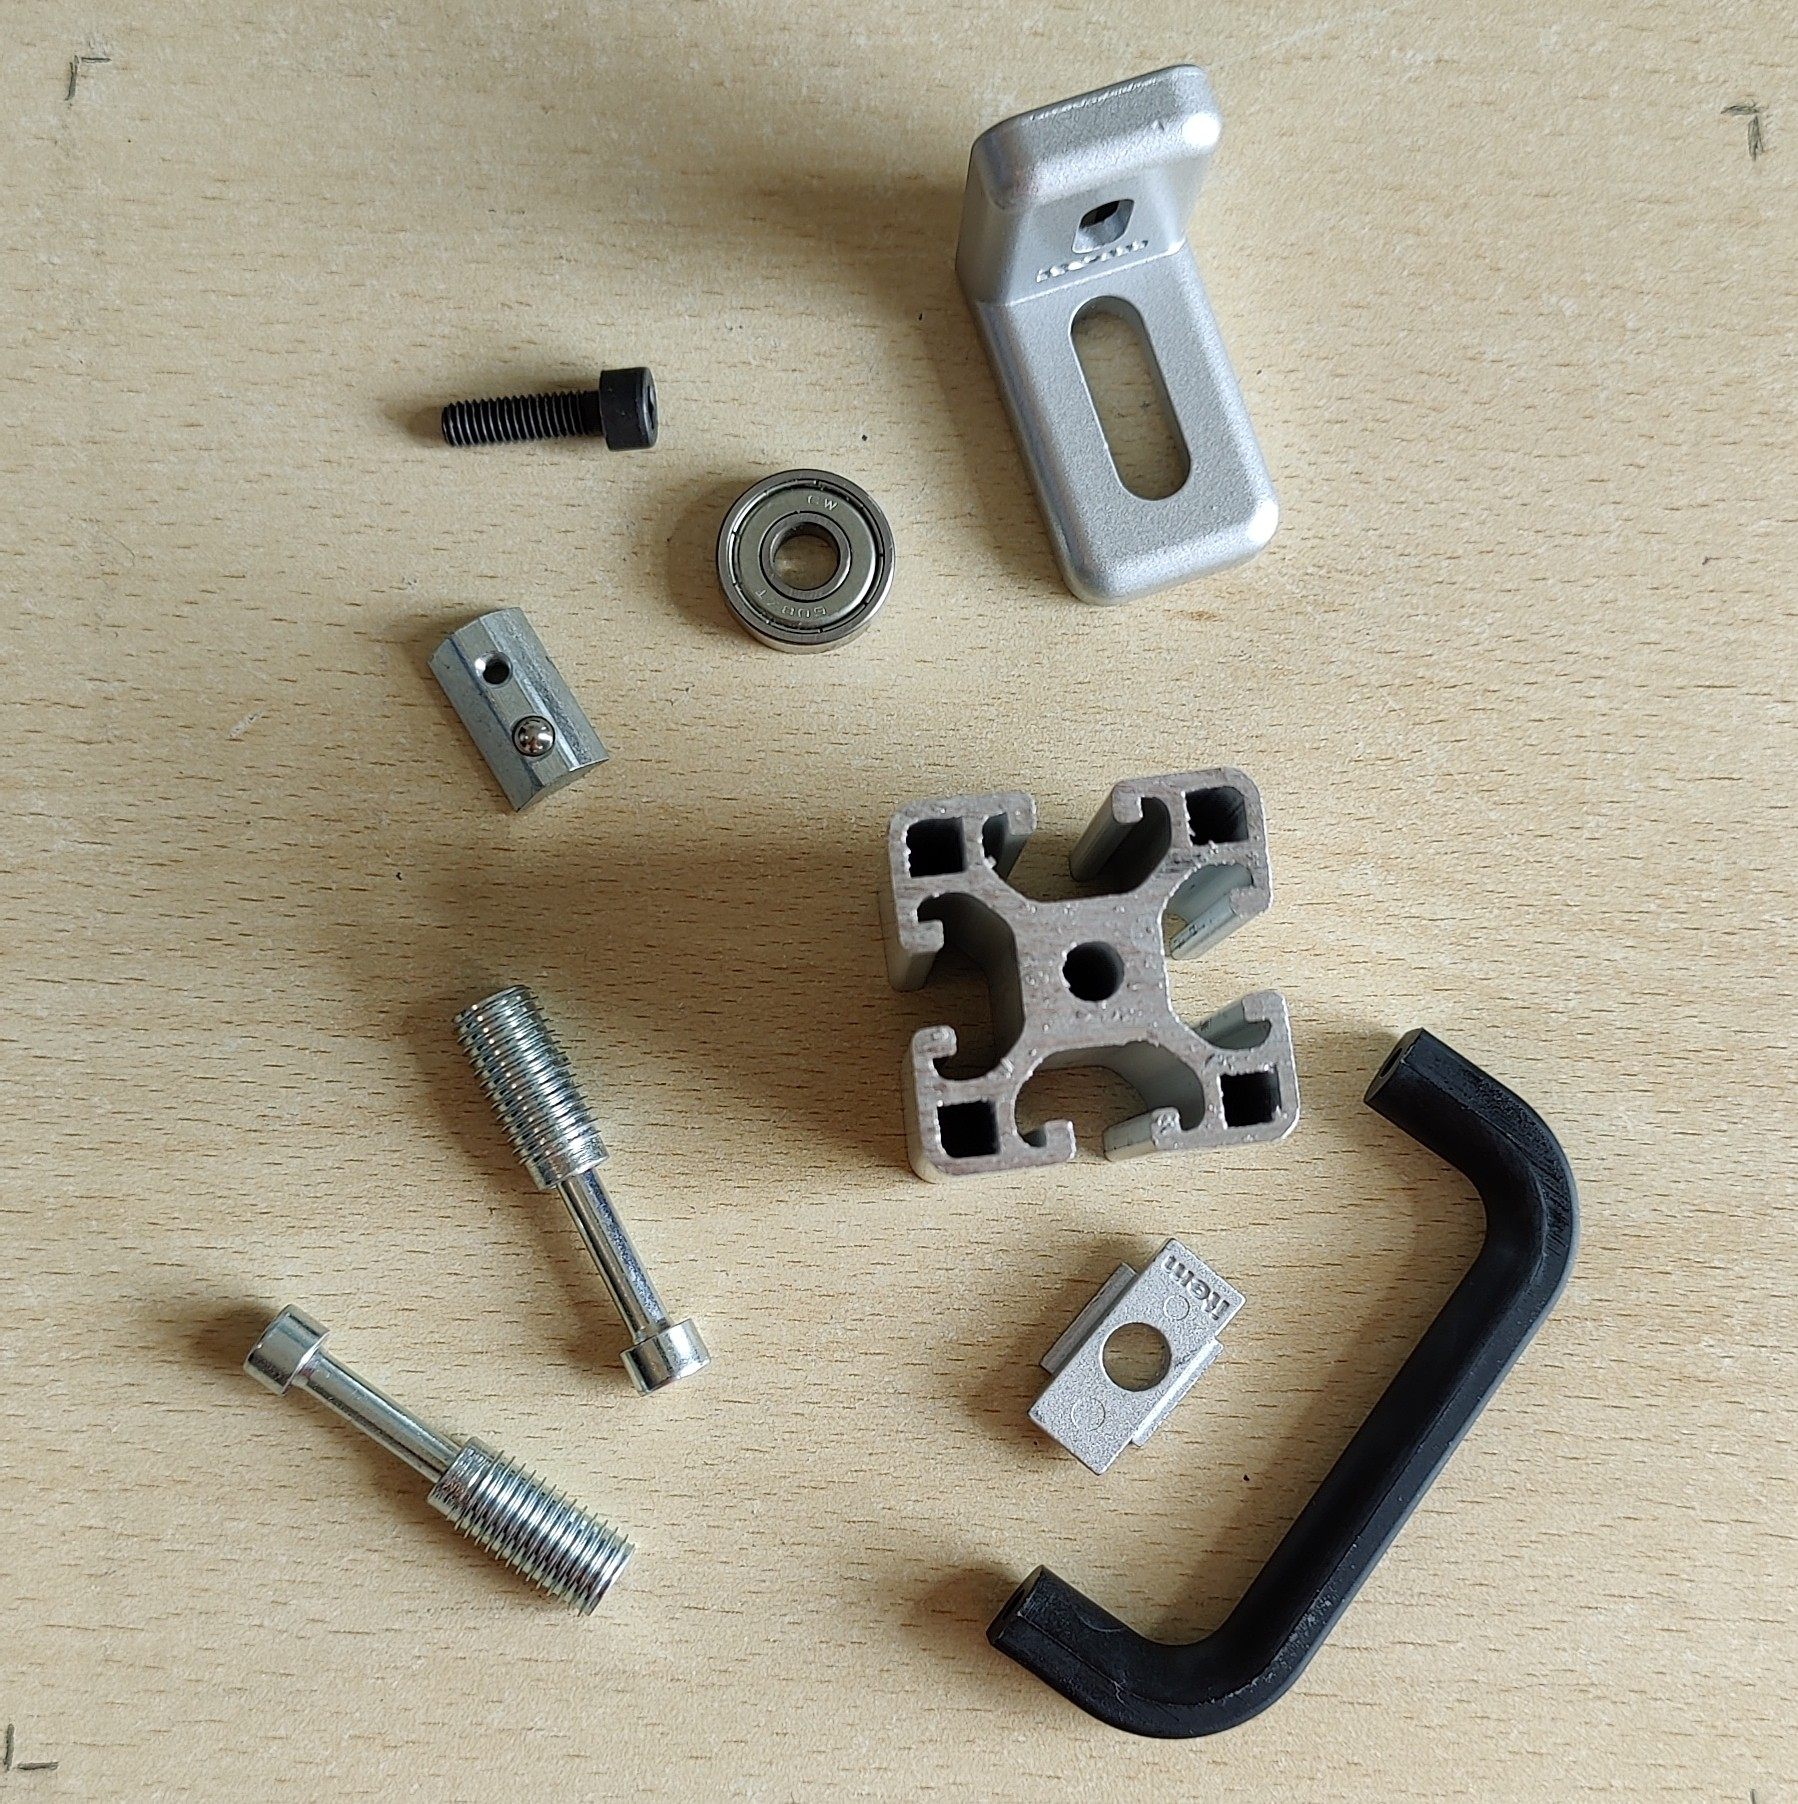Aluminium Extension: (874, 764, 1302, 1188)
Ball Bearing: (715, 467, 897, 657)
Multiwinkel: (950, 59, 1281, 607)
Pull Handle: (985, 1025, 1584, 1741)
Shoulder Socket Head Cap Screw: (240, 1304, 636, 1620), (446, 979, 715, 1399)
Socket Head Cap Screw: (436, 364, 664, 453)
T Nut Square: (1026, 1238, 1246, 1478)
T Spring Nut: (426, 606, 609, 816)
